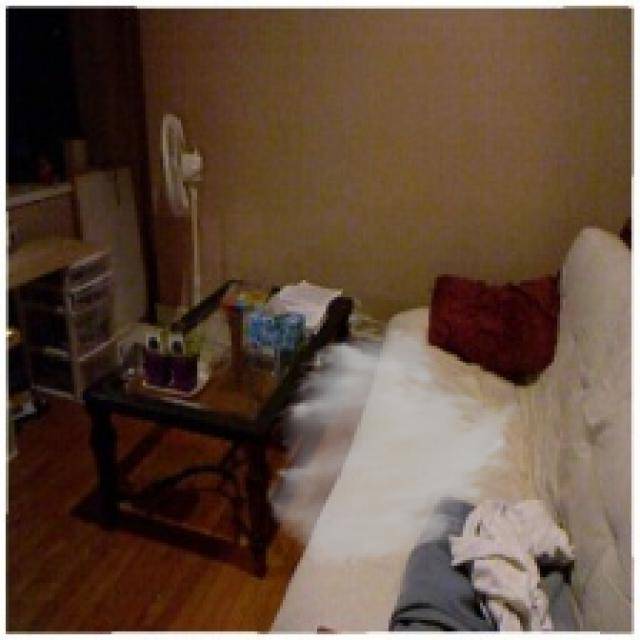smoke: (263, 323, 526, 568)
